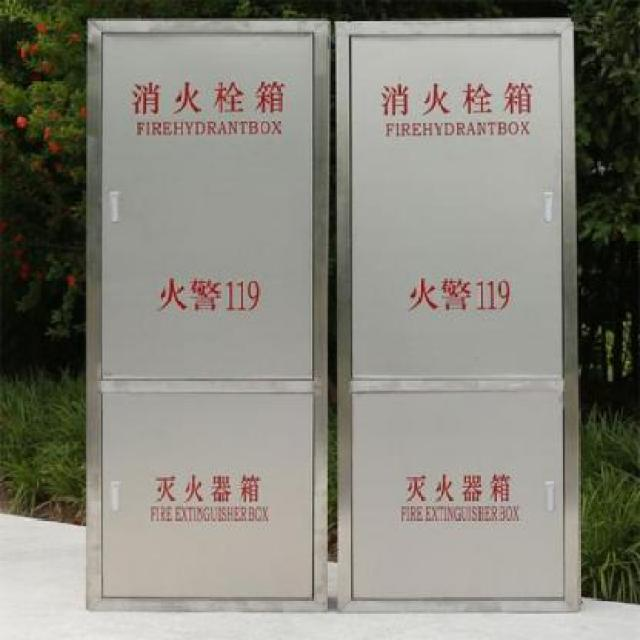firehydrant: (80, 12, 332, 618), (331, 14, 582, 615)
